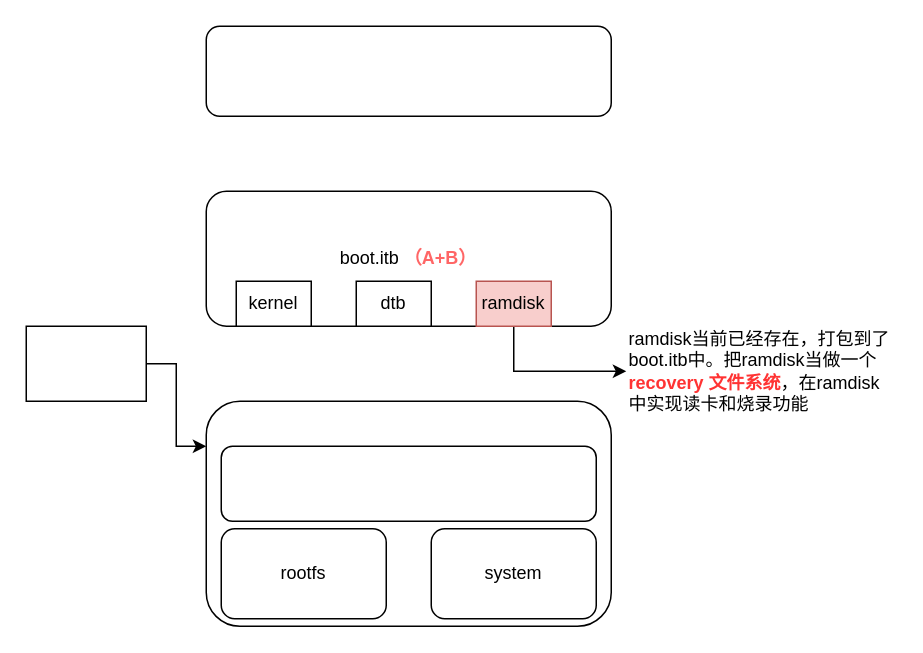
Some shapes in this 923 by 653 pixel diagram are drawn without their labels. Here are the shapes that lost their labels. From the top down, the centre of each, then its label:
(408,70): preboot.itb (A+B)
(85,363): 文件系统，只有单个分区,没有AB区分
(408,483): DATA overlay
